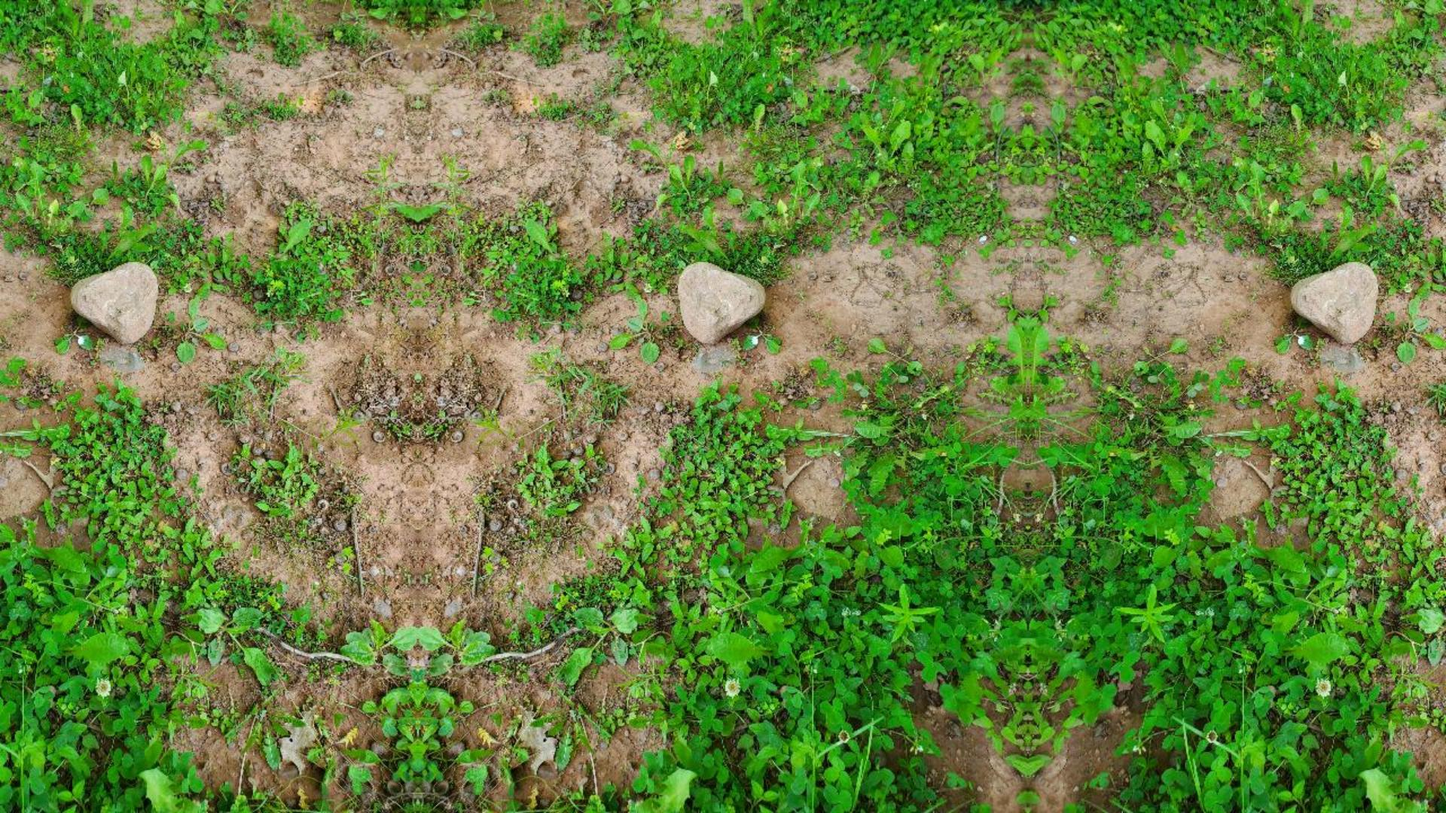rock: (678, 262, 765, 344), (70, 262, 158, 343), (1290, 262, 1378, 343)
